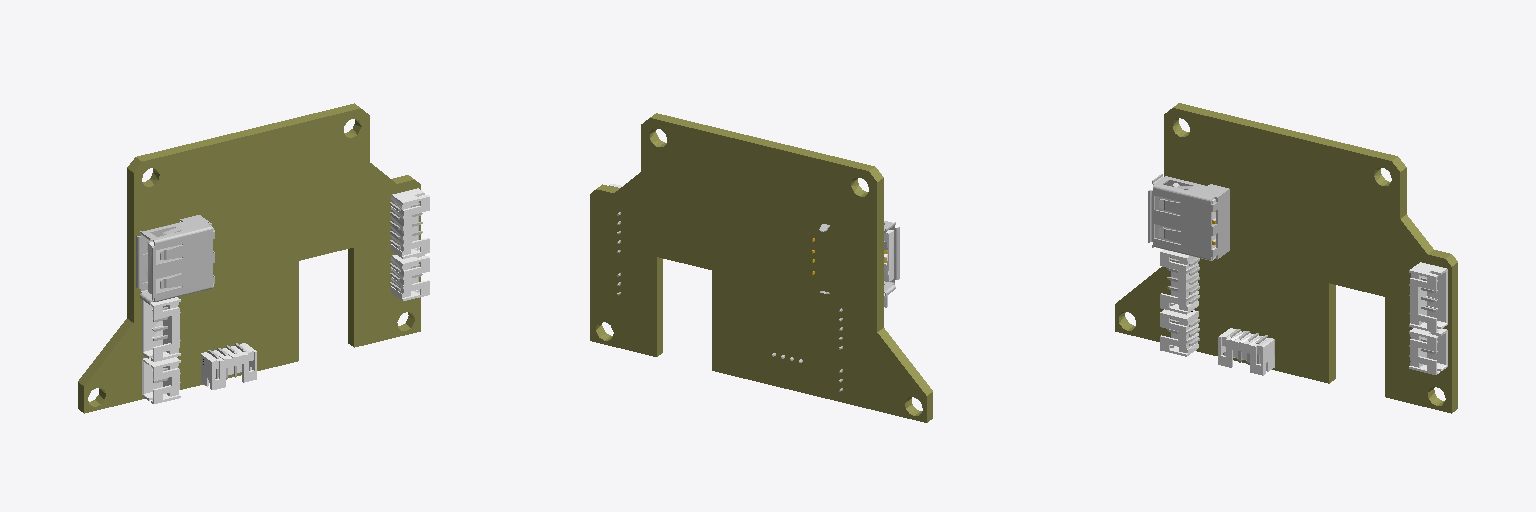
File: OBJ_PCB_DREAMCAST_TWINSTICK_GP2040CE_V0.03.obj
3 views of the same model, side by side, from view 1: azimuth 30°, elevation 25°; view 2: azimuth 150°, elevation 25°; view 3: azimuth 330°, elevation 25° (orthographic).
Size of the model in its own units: 296 by 200 by 43.71.